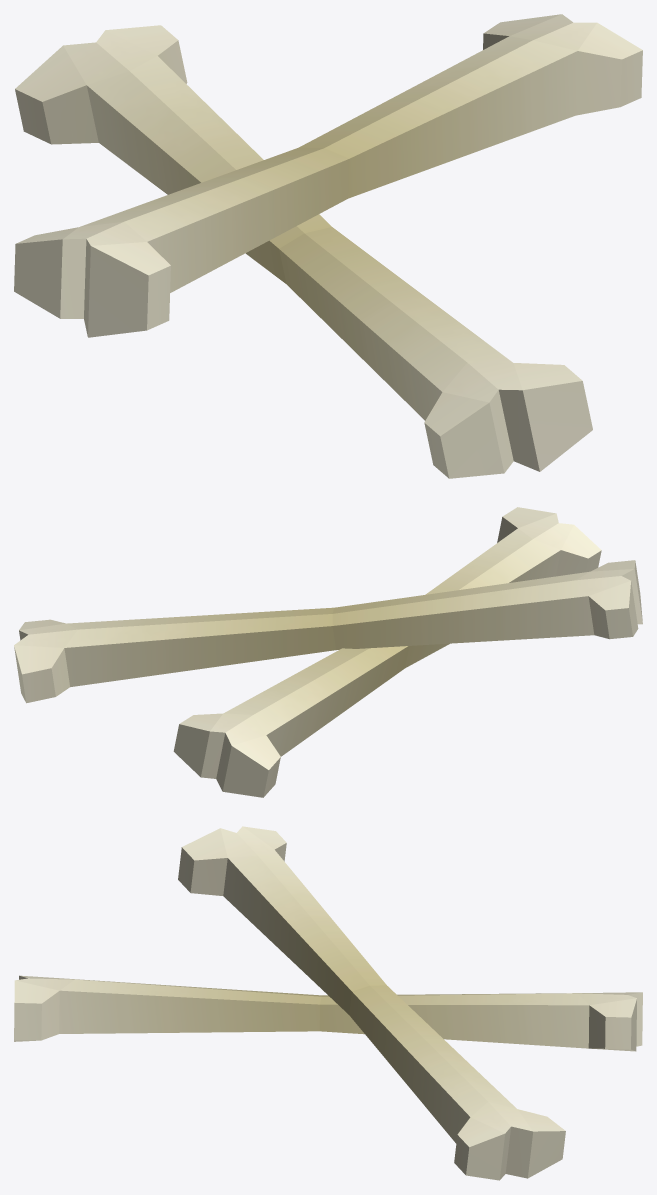
The model's file is Bones_Crossbones.fbx.
3 renders of one model, top to bottom at view 1: azimuth 30°, elevation 25°; view 2: azimuth 150°, elevation 25°; view 3: azimuth 270°, elevation 25°, orthographic. The views are drawn at different scales.
Parts seen in each view (by area): view 1: Bones_Crossbones; view 2: Bones_Crossbones; view 3: Bones_Crossbones.
Boxes of the visible parts, bbox=[...] form: Bones_Crossbones: bbox=[14, 14, 642, 478]; Bones_Crossbones: bbox=[14, 507, 642, 797]; Bones_Crossbones: bbox=[14, 826, 642, 1180].
Size of the model in its own units: 58.05 by 61.77 by 13.55.
1 material, 1 textured.
